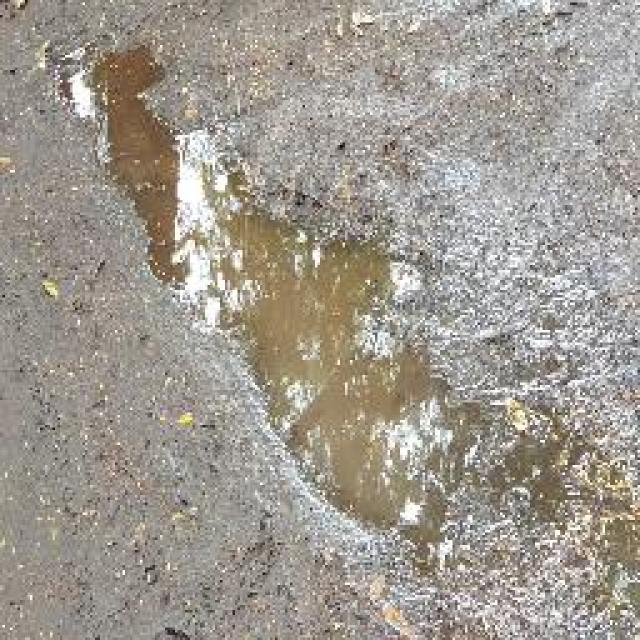stagnation: (132, 57, 458, 570)
